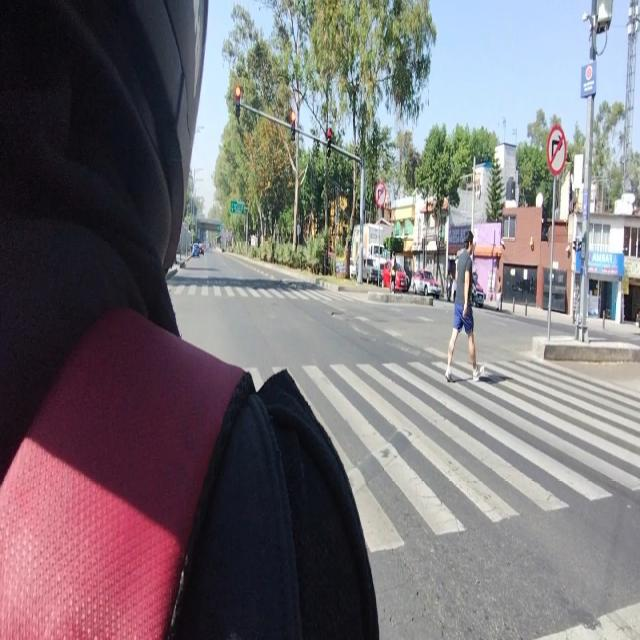adult: (446, 229, 481, 384)
